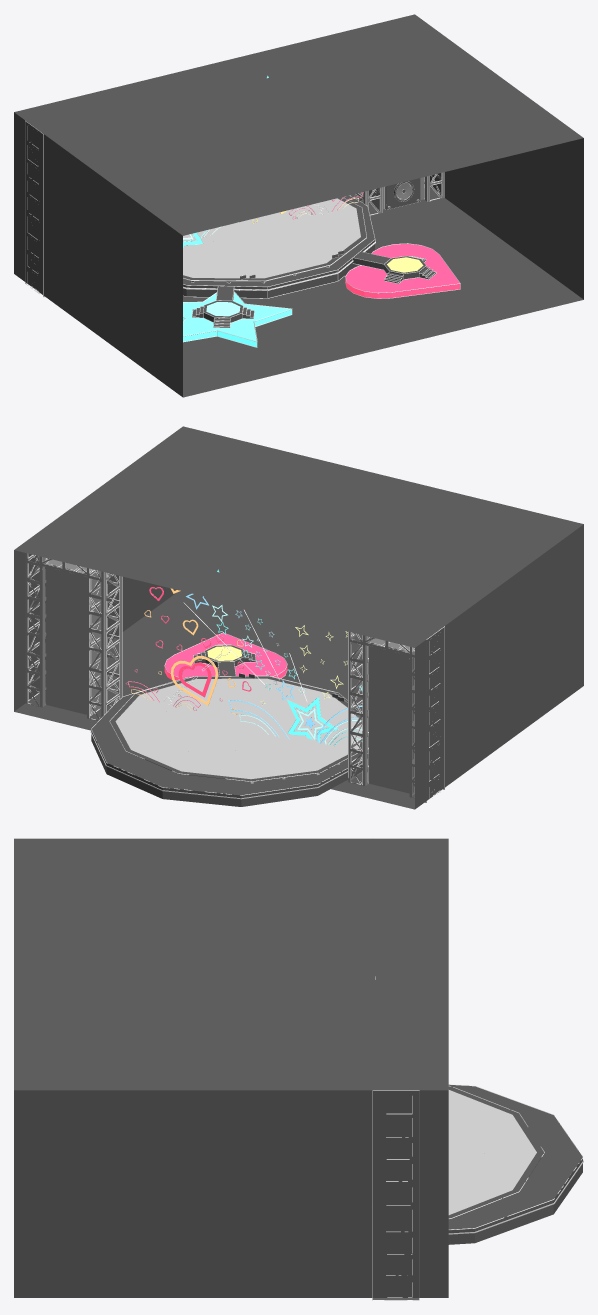
Rendered from stage.glb.
3 views of the same model, one above another, from view 1: azimuth 30°, elevation 25°; view 2: azimuth 150°, elevation 25°; view 3: azimuth 270°, elevation 25° (orthographic). The views are drawn at different scales.
Parts seen in each view (by area): view 1: kidou.001, circle5, stageoutline, stage.001, heartstage, stage, stagestar, circle4, circle3, circle2, frame, amp.001; view 2: kidou.001, frame, circle5, stage, stageoutline, circle4, stage.001, circle3, heartstage, star, hart, circle2 (+2 smaller); view 3: kidou.001, stage, circle5, circle4, stage.001, stageoutline.
Boxes of the visible parts, x1,y1,x2,y2 form: kidou.001: [14, 14, 583, 397]; circle5: [183, 198, 360, 278]; stageoutline: [25, 120, 460, 347]; stage.001: [183, 197, 435, 327]; heartstage: [345, 244, 460, 298]; stage: [183, 195, 374, 298]; stagestar: [183, 292, 291, 347]; circle4: [183, 206, 321, 261]; circle3: [183, 212, 298, 252]; circle2: [199, 216, 276, 242]; frame: [25, 121, 443, 296]; amp.001: [385, 178, 420, 209]; kidou.001: [14, 426, 583, 809]; frame: [25, 553, 444, 802]; circle5: [115, 678, 362, 779]; stage: [91, 677, 362, 806]; stageoutline: [27, 553, 444, 802]; circle4: [156, 695, 324, 762]; stage.001: [110, 645, 362, 783]; circle3: [179, 704, 301, 752]; heartstage: [164, 633, 287, 680]; star: [186, 569, 351, 741]; hart: [126, 587, 251, 714]; circle2: [202, 714, 278, 742]; kidou.001: [14, 838, 448, 1297]; stage: [448, 1084, 582, 1244]; circle5: [448, 1090, 536, 1214]; circle4: [448, 1118, 484, 1186]; stage.001: [448, 1086, 543, 1219]; stageoutline: [372, 1084, 583, 1300].
Size of the model in its own units: 41.72 by 16.52 by 39.87.
